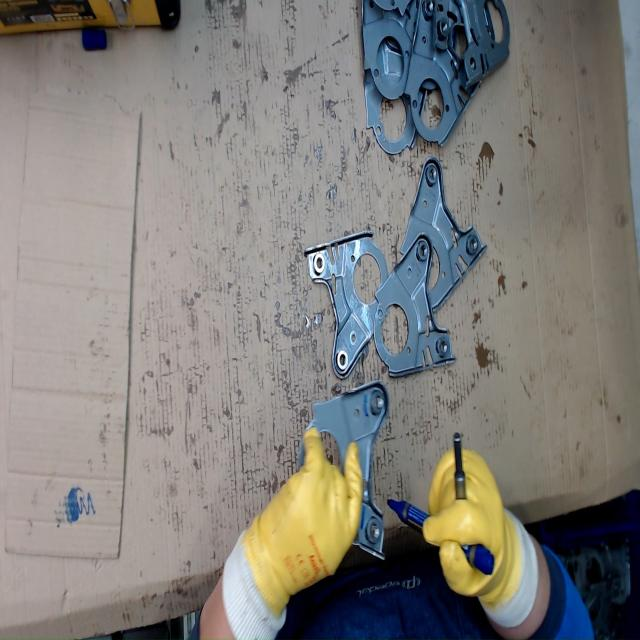hands: (248, 425, 366, 592), (422, 445, 520, 603)
